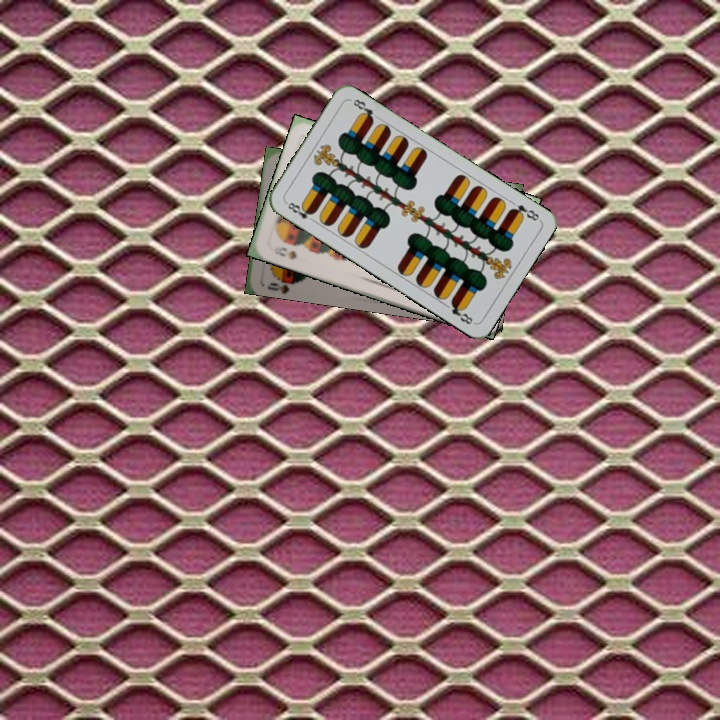E8: (281, 198, 318, 225), (506, 200, 542, 223)
S8: (270, 243, 299, 262)
SO: (263, 274, 302, 295)
